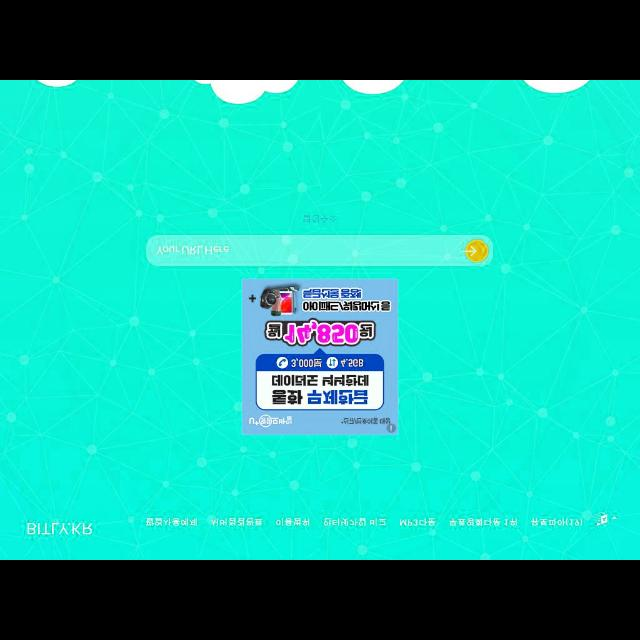backgroundimage: (1, 81, 639, 559)
button: (464, 239, 490, 263)
icon: (593, 512, 609, 526), (463, 245, 479, 257), (612, 515, 618, 523)
image: (243, 280, 397, 436)
input: (146, 234, 494, 266)
link: (302, 212, 338, 224)
multitab: (136, 507, 588, 537)
text: (27, 518, 91, 536), (156, 242, 228, 256), (448, 516, 520, 528), (324, 516, 386, 528), (530, 515, 584, 527), (145, 516, 197, 528), (211, 518, 263, 530), (398, 516, 437, 528), (276, 517, 312, 529)
